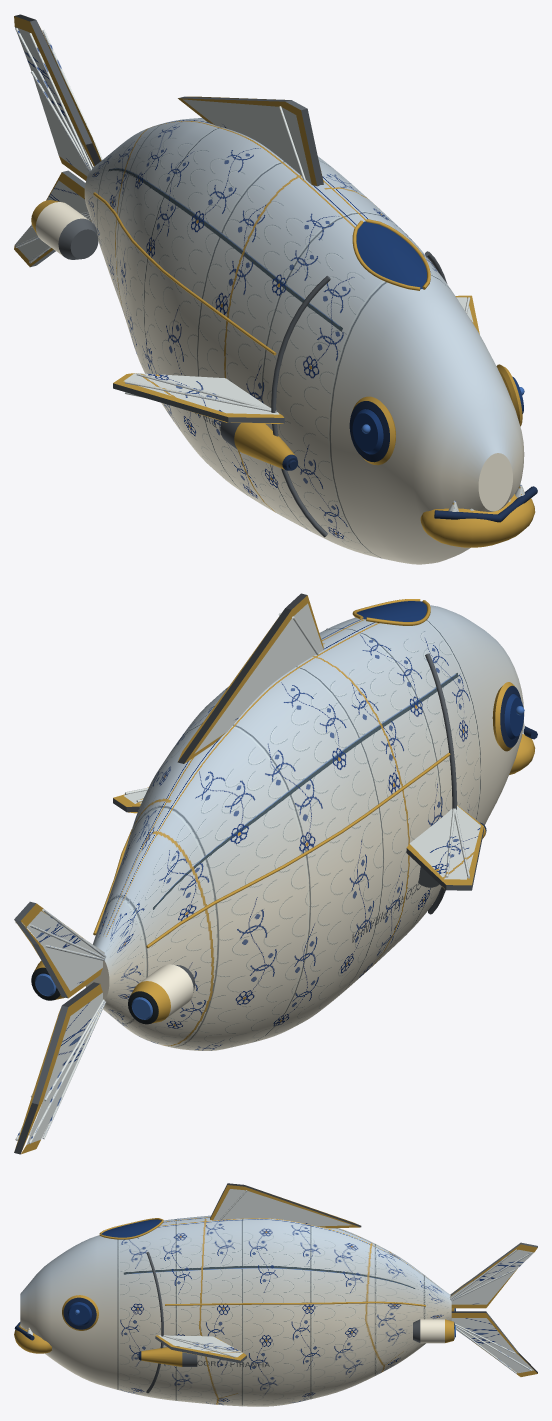
3 views of the same model, one above another, from view 1: azimuth 30°, elevation 25°; view 2: azimuth 150°, elevation 25°; view 3: azimuth 270°, elevation 25° (orthographic). The views are drawn at different scales.
Parts seen in each view (by area): view 1: piranha_hull; view 2: piranha_hull; view 3: piranha_hull.
Part boxes in pixels (bbox=[...]): piranha_hull: bbox=[14, 14, 537, 564]; piranha_hull: bbox=[14, 593, 537, 1154]; piranha_hull: bbox=[14, 1183, 537, 1406].
Bounding box in the file's own units: 6.42 × 6.94 × 15.
Materials: 1 (1 with a texture image).
